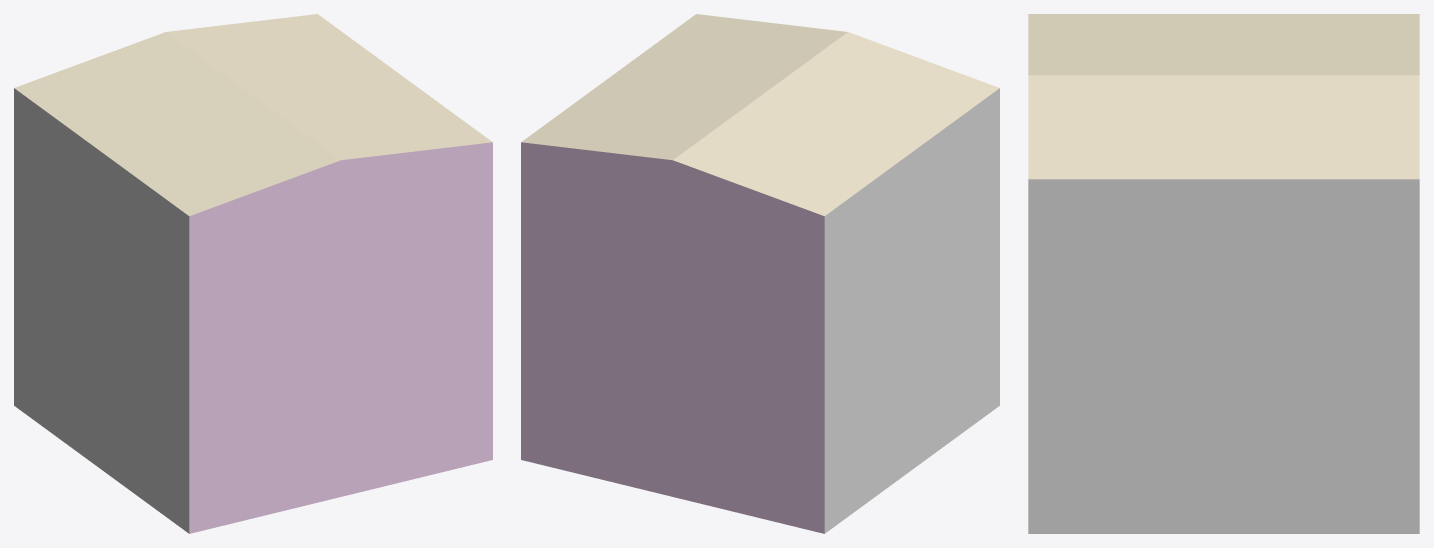
Rendered from Tiered_Walkway_Path_Transition_Straight_1x1.glb.
The picture shows the model from 3 angles, left to right: view 1: azimuth 30°, elevation 25°; view 2: azimuth 150°, elevation 25°; view 3: azimuth 270°, elevation 25°; orthographic projection. The views are drawn at different scales.
Parts seen in each view (by area): view 1: Tiered_Walkway_Path_Transition_Straight_1x1; view 2: Tiered_Walkway_Path_Transition_Straight_1x1; view 3: Tiered_Walkway_Path_Transition_Straight_1x1.
Boxes of the visible parts, x1,y1,x2,y2 form: Tiered_Walkway_Path_Transition_Straight_1x1: (14,14,492,533); Tiered_Walkway_Path_Transition_Straight_1x1: (521,14,999,533); Tiered_Walkway_Path_Transition_Straight_1x1: (1028,14,1419,533).
Size of the model in its own units: 100 by 106 by 100.
